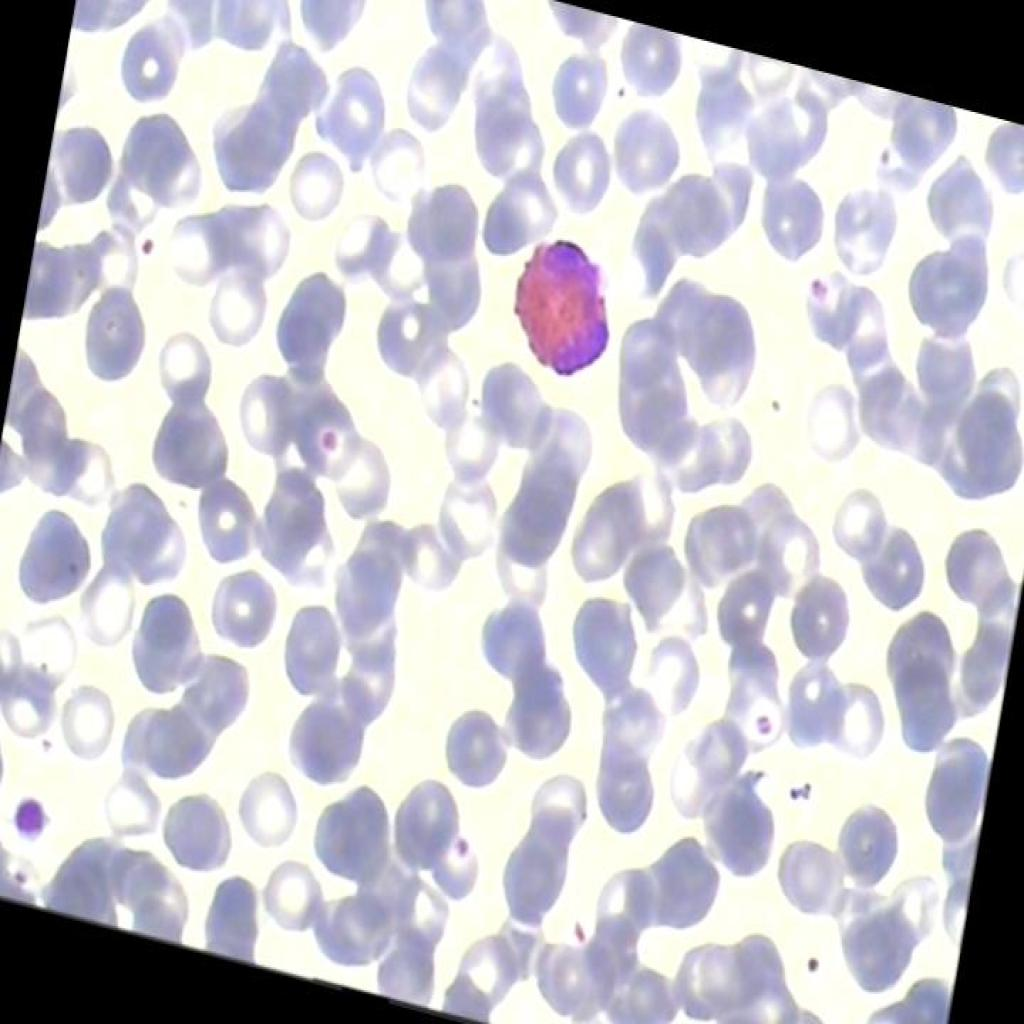Eosinofil: (492, 220, 640, 393)
Platelet: (771, 750, 826, 823), (4, 784, 61, 850), (313, 407, 351, 464), (742, 688, 782, 740), (789, 265, 839, 306), (757, 380, 795, 430), (862, 130, 899, 181), (22, 708, 58, 754), (563, 910, 593, 953), (800, 939, 828, 985), (442, 823, 474, 859), (130, 228, 160, 266), (4, 852, 30, 890)
